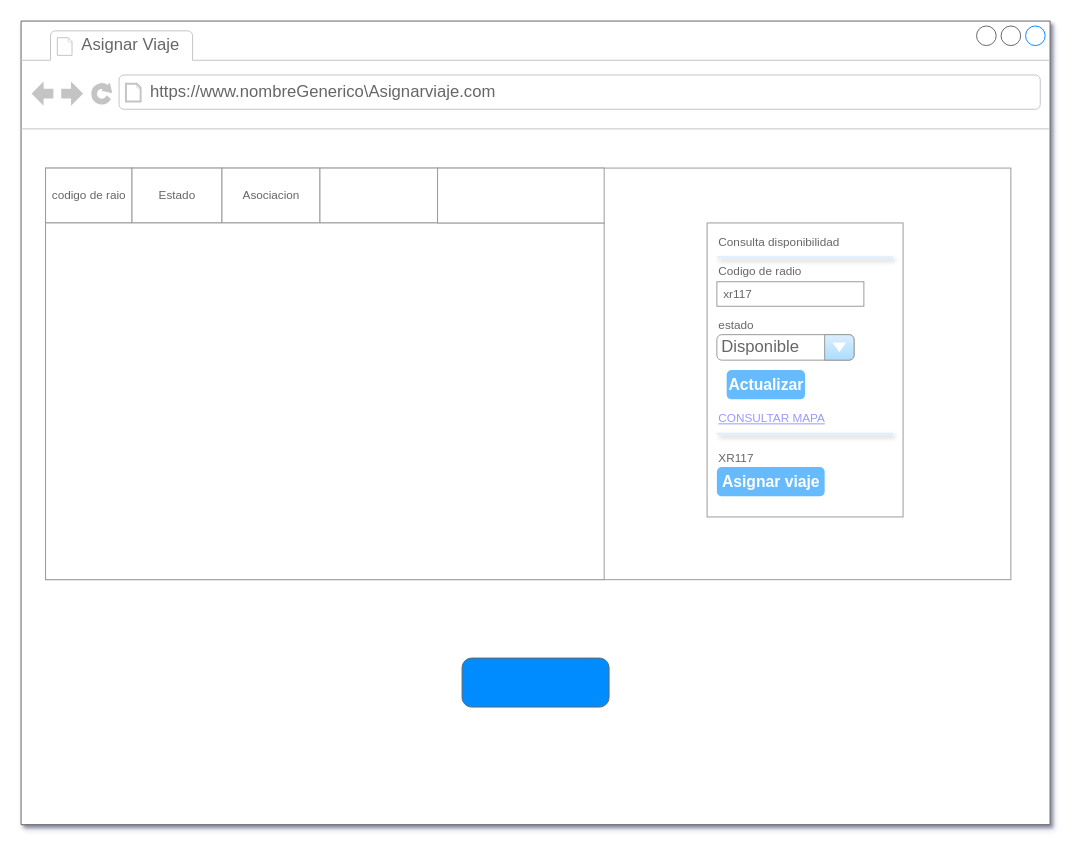
This 1079x855 diagram has some shape labels left out. The centre of each missing label's shape, as x and y in pixels:
"Ir al index" goes at pixel 535 682.
"modelo" goes at pixel 378 195.
"nombre" goes at pixel 520 195.
